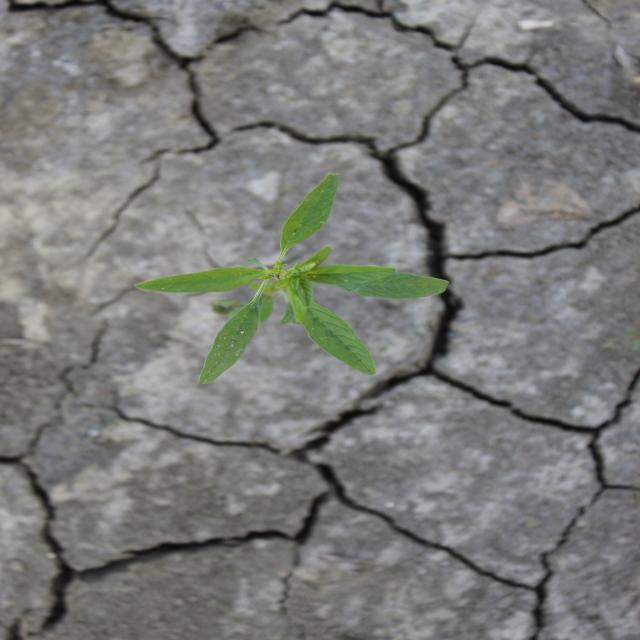Waterhemp: (131, 172, 451, 388)
